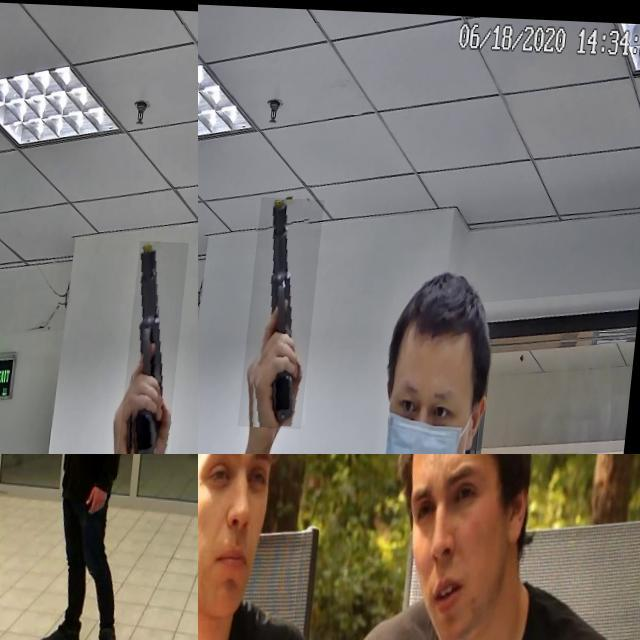gun-knife-thesis - v11 Yolov5 augmented: (246, 195, 328, 426), (126, 238, 194, 454), (0, 454, 17, 471)
